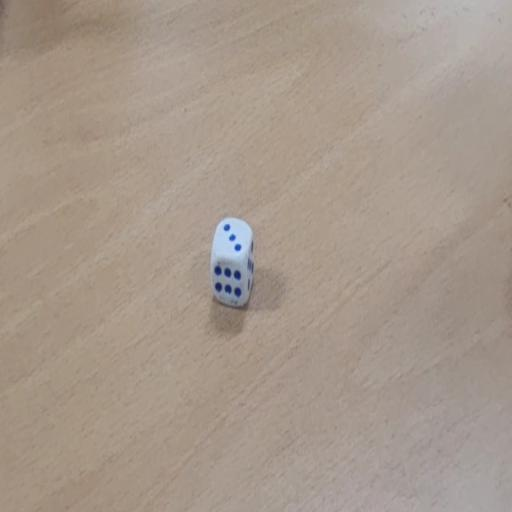dice_3: (209, 215, 257, 309)
